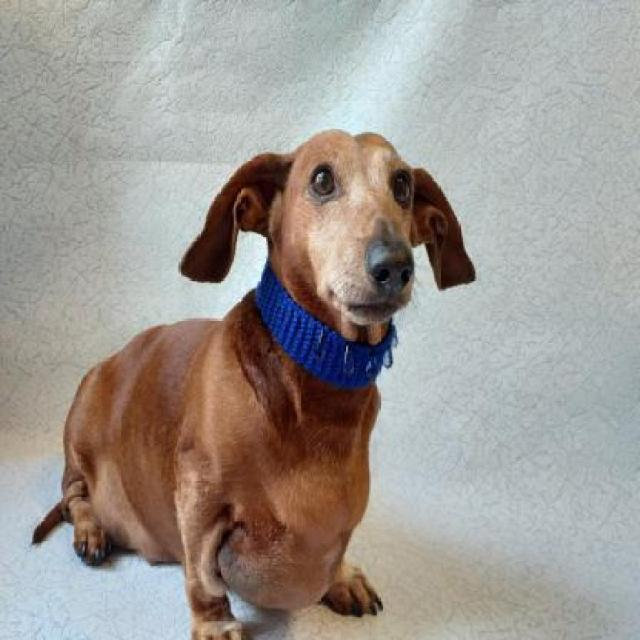Dog: (31, 130, 480, 638)
